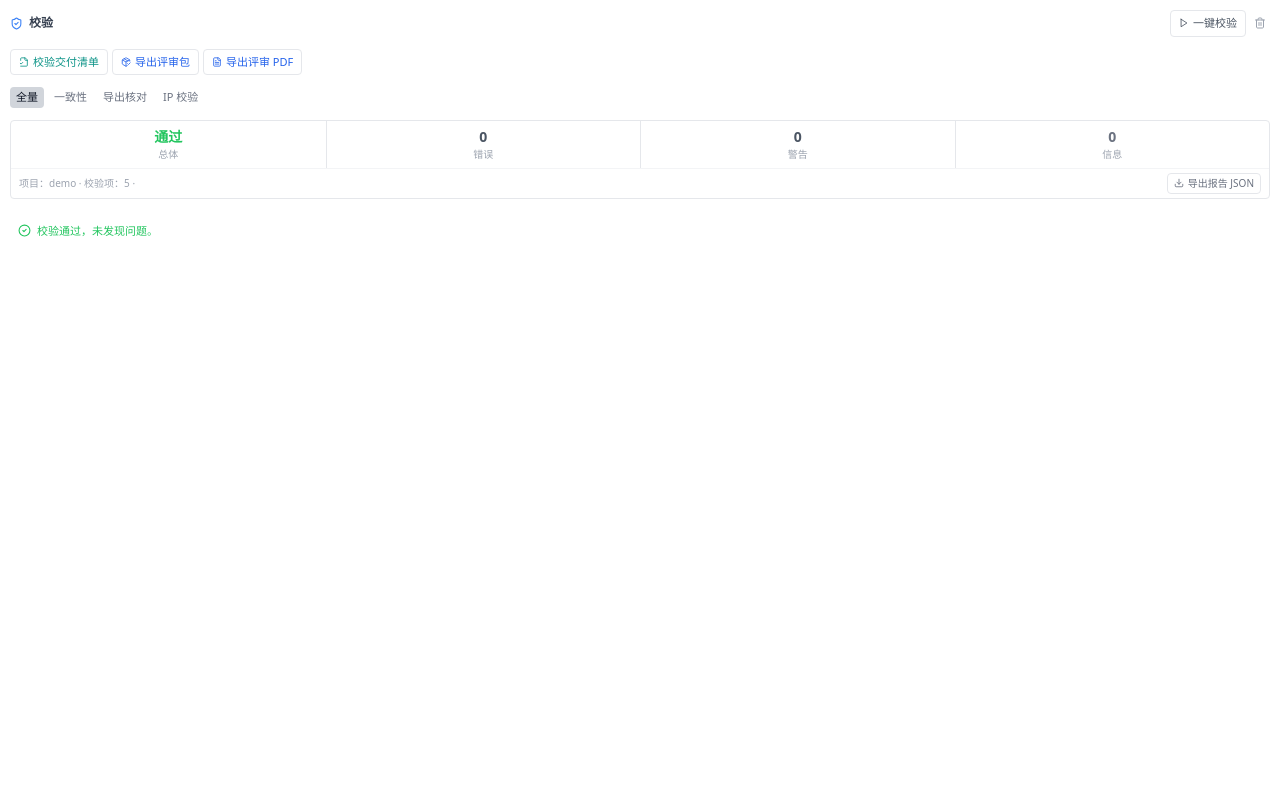
Scenario: ValidationPanel（4.8.0 F8-4/F8-5 评审导出与交付清单校验） › 交付清单校验失败 → 提示错误
Click the button "校验交付清单".
click(59, 62)  # box x1=10 y1=48 x2=108 y2=75
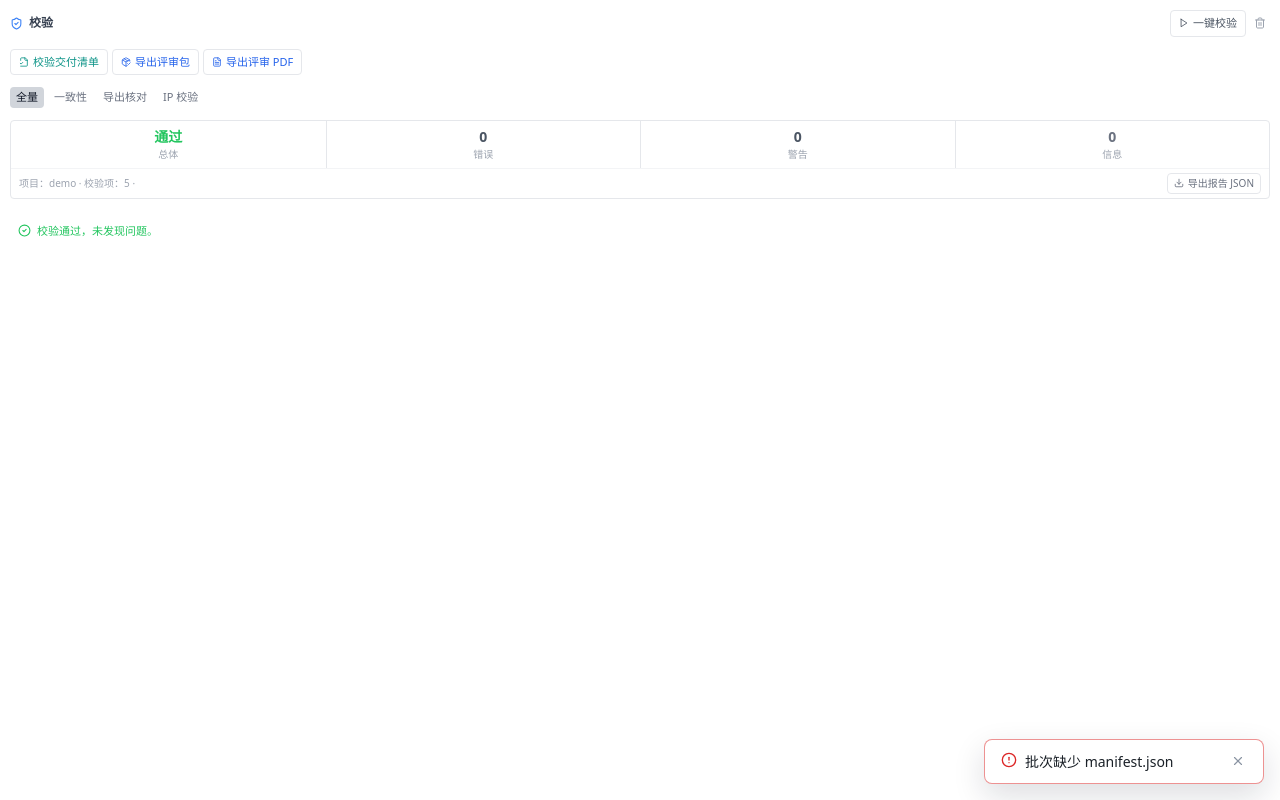
Expected: the text "批次缺少 manifest.json" is shown, x1=1025 y1=752 x2=1174 y2=771
